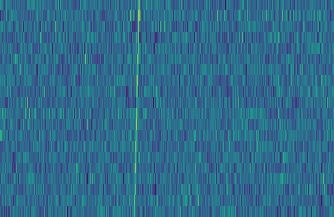signal: (129, 0, 143, 217)
